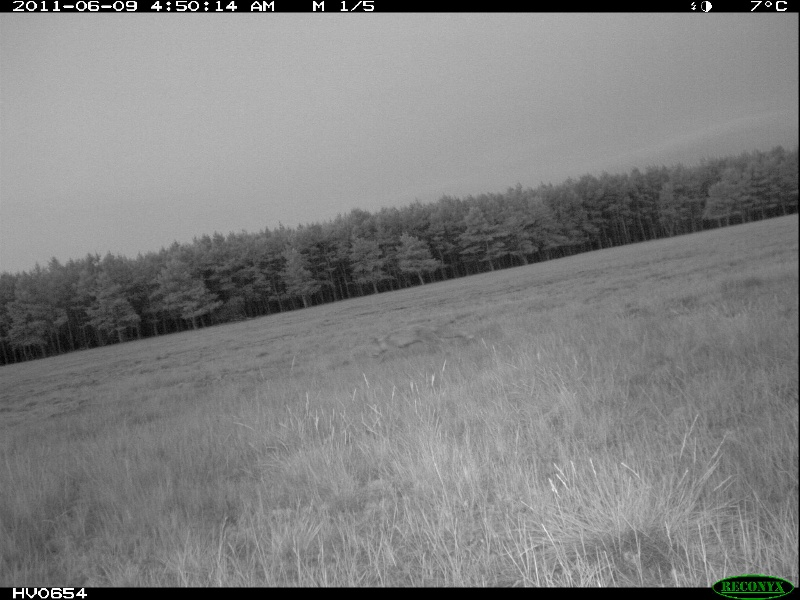fox: (368, 323, 484, 362)
